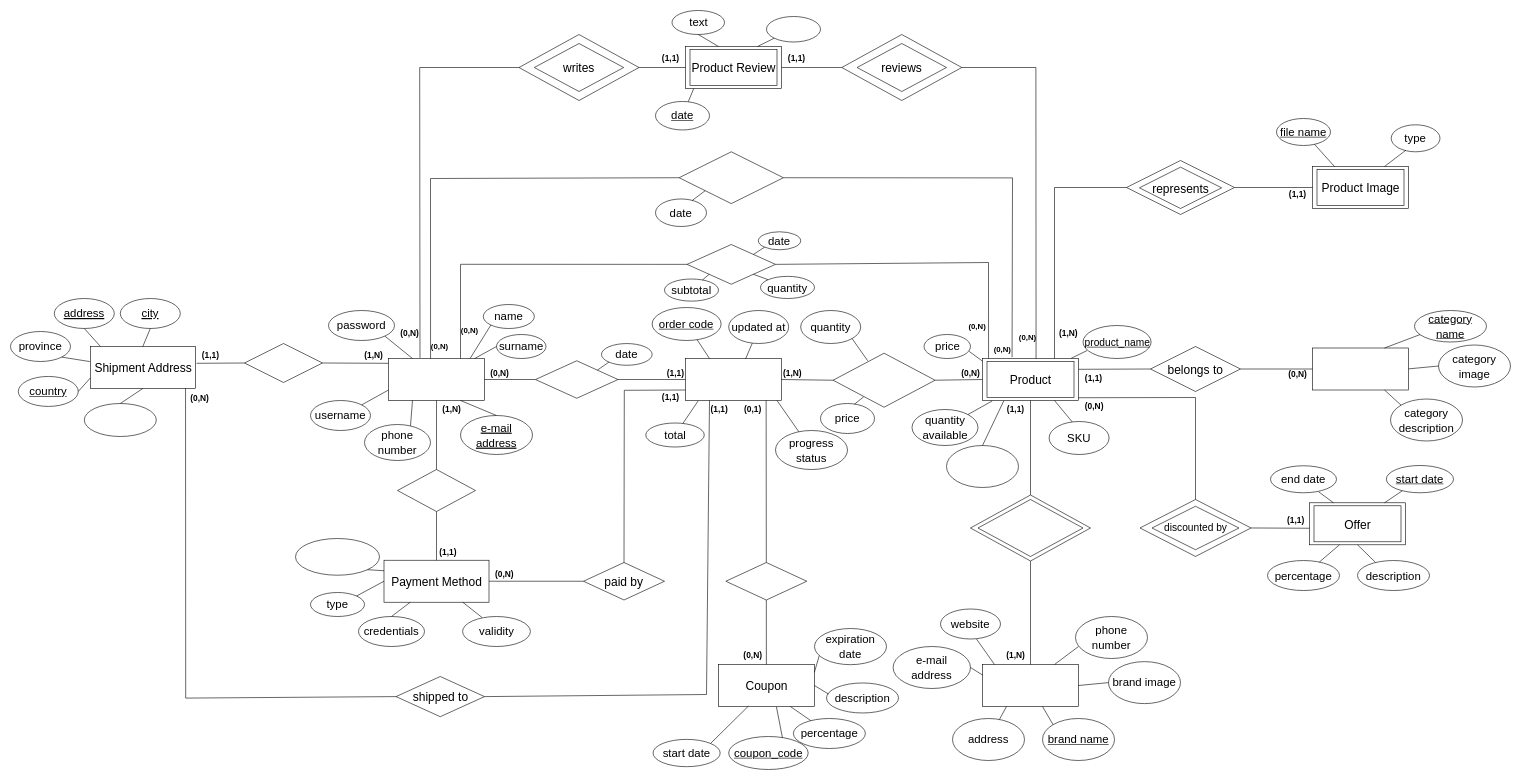
The diagram is 1521 pixels wide and 780 high, and some of its shapes have lost their labels. Each missing label, with the centre of its shape:
adds to cart: the point at 731,264
adds to wishlist: the point at 731,177
applied: the point at 766,581
Brand: the point at 1030,685
Category: the point at 1360,368
contains: the point at 883,380
Order: the point at 733,379
owns: the point at 283,362
payment_code: the point at 337,556
pays by: the point at 436,490
places: the point at 576,379
postal code: the point at 120,419
produced by: the point at 1030,527
product description: the point at 982,466
rating: the point at 793,29
User: the point at 436,379
